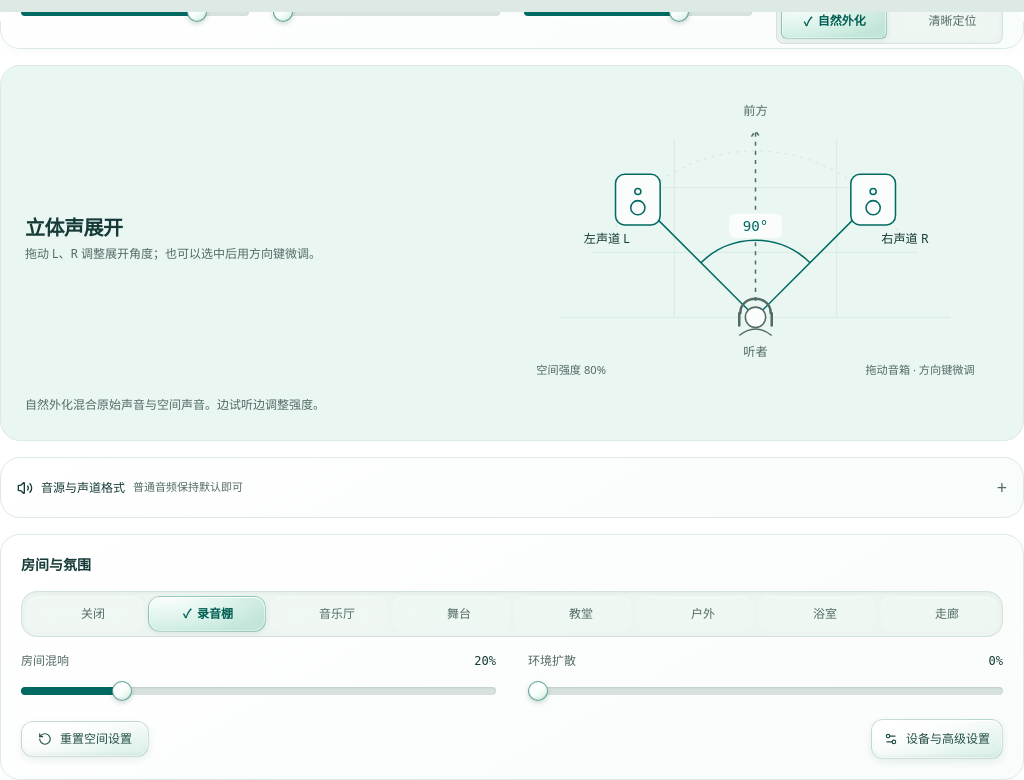
Scenario: 空间重做 UI 的用户操作 › 没有 Atmos、360RA 或物理多声道输出入口
(page scrolled)
Click the button "设备与高级设置": point(937, 739) [871, 719, 1003, 759]
(page scrolled)
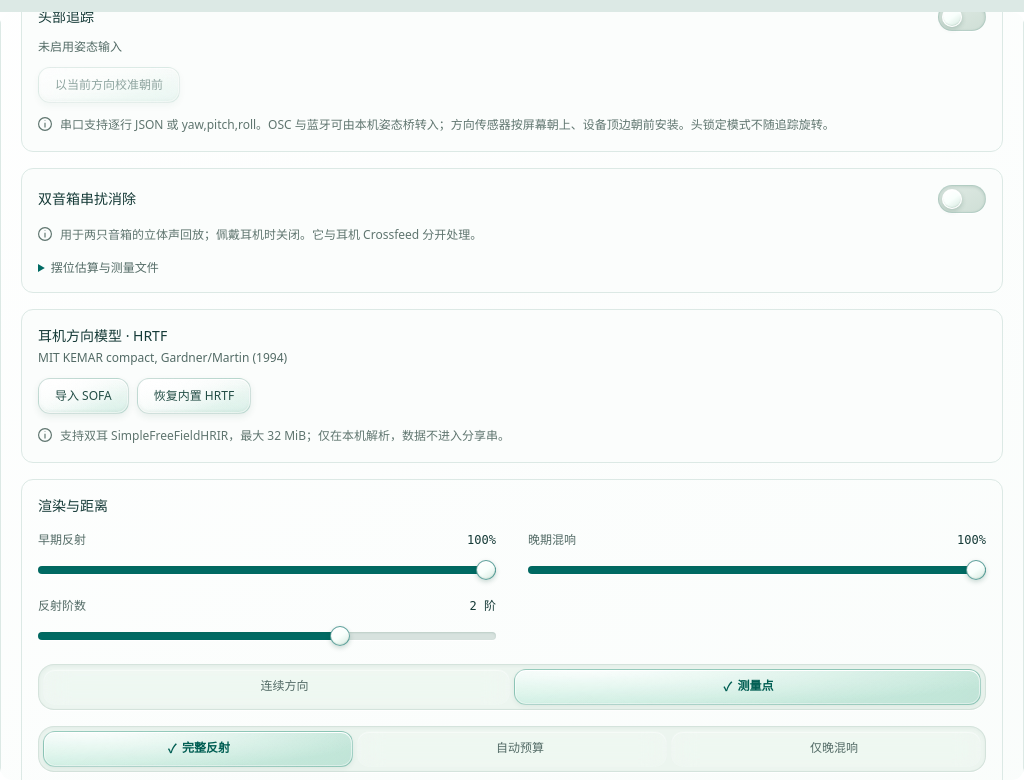
Expected: the button "导入 SOFA" is shown, [38, 378, 129, 414]
